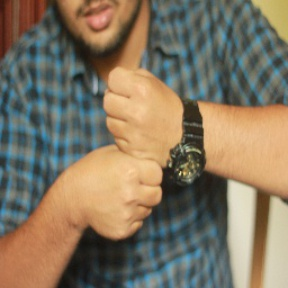G: (83, 62, 178, 241)
